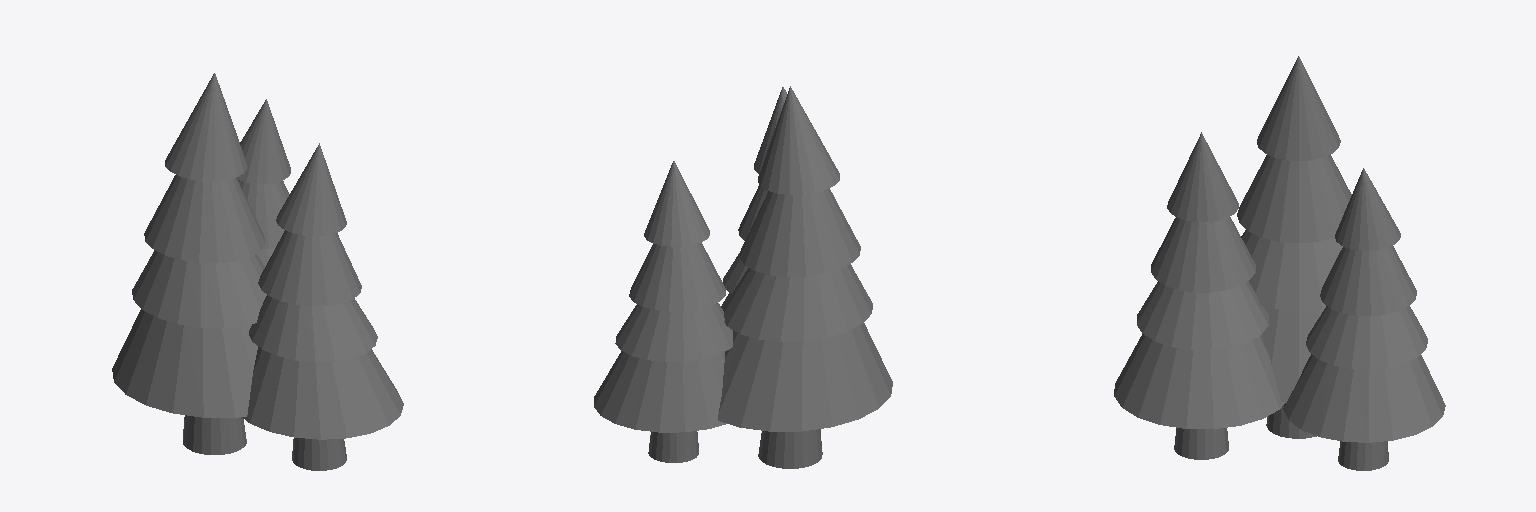
File: pine_TreeGroup.obj
The picture shows the model from 3 angles: view 1: azimuth 30°, elevation 25°; view 2: azimuth 150°, elevation 25°; view 3: azimuth 270°, elevation 25°; orthographic projection.
Visible parts, largest first — view 1: pine_TreeGroup:pCylinder4 pine_TreeGroup:polySurface2 pine_TreeG; view 2: pine_TreeGroup:pCylinder4 pine_TreeGroup:polySurface2 pine_TreeG; view 3: pine_TreeGroup:pCylinder4 pine_TreeGroup:polySurface2 pine_TreeG.
Part boxes in pixels (x1,y1,x2,y2): pine_TreeGroup:pCylinder4 pine_TreeGroup:polySurface2 pine_TreeG: (112, 73, 403, 470); pine_TreeGroup:pCylinder4 pine_TreeGroup:polySurface2 pine_TreeG: (594, 86, 892, 468); pine_TreeGroup:pCylinder4 pine_TreeGroup:polySurface2 pine_TreeG: (1114, 56, 1445, 470).
Bounding box in the file's own units: 86.1 × 126 × 102.